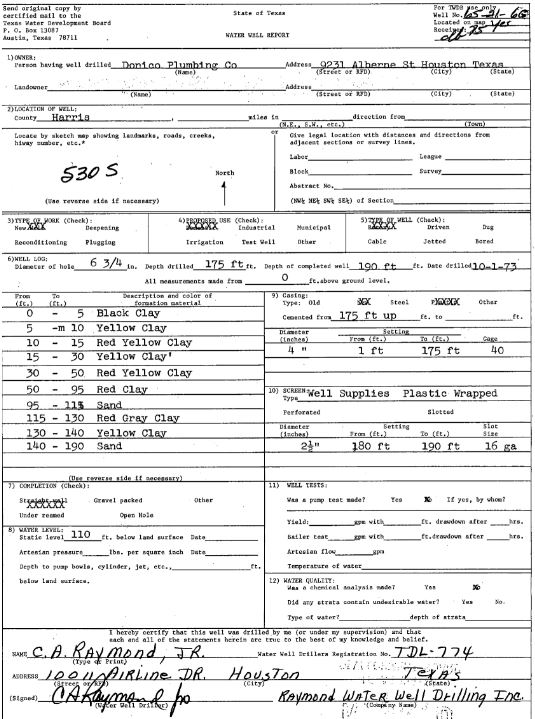fracking table: (2, 48, 530, 627)
